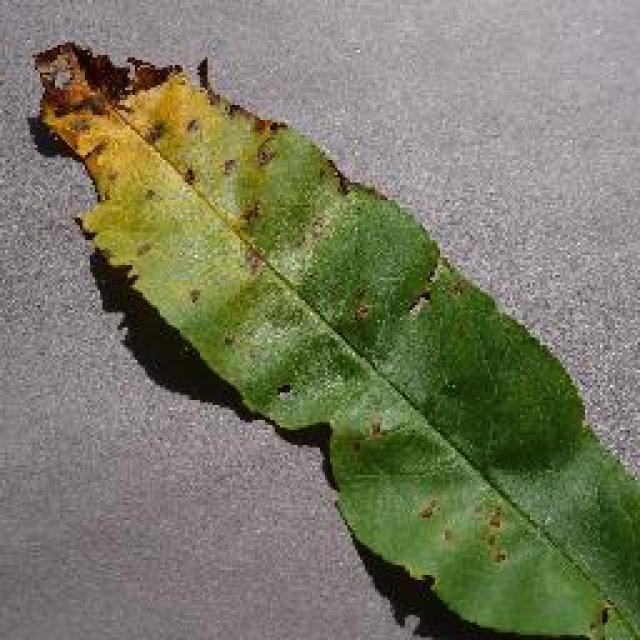Peach_Bacterial_Spot: (60, 15, 283, 252)
